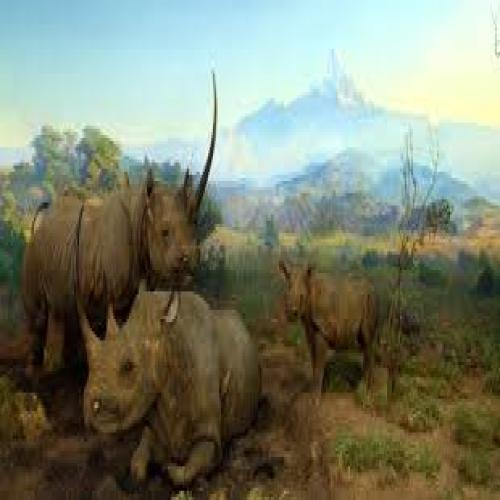rhino-endangered: (21, 69, 218, 374), (74, 274, 261, 482), (278, 258, 378, 398)
